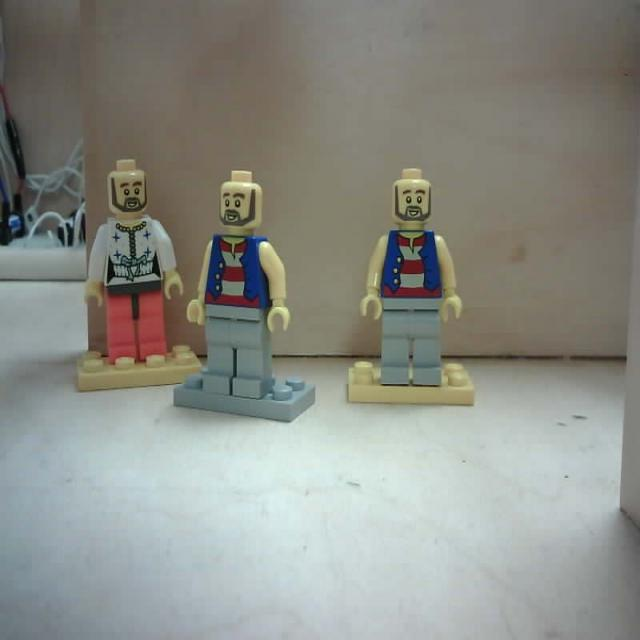Lego-People: (173, 171, 316, 425), (347, 170, 477, 406), (73, 162, 203, 394)
